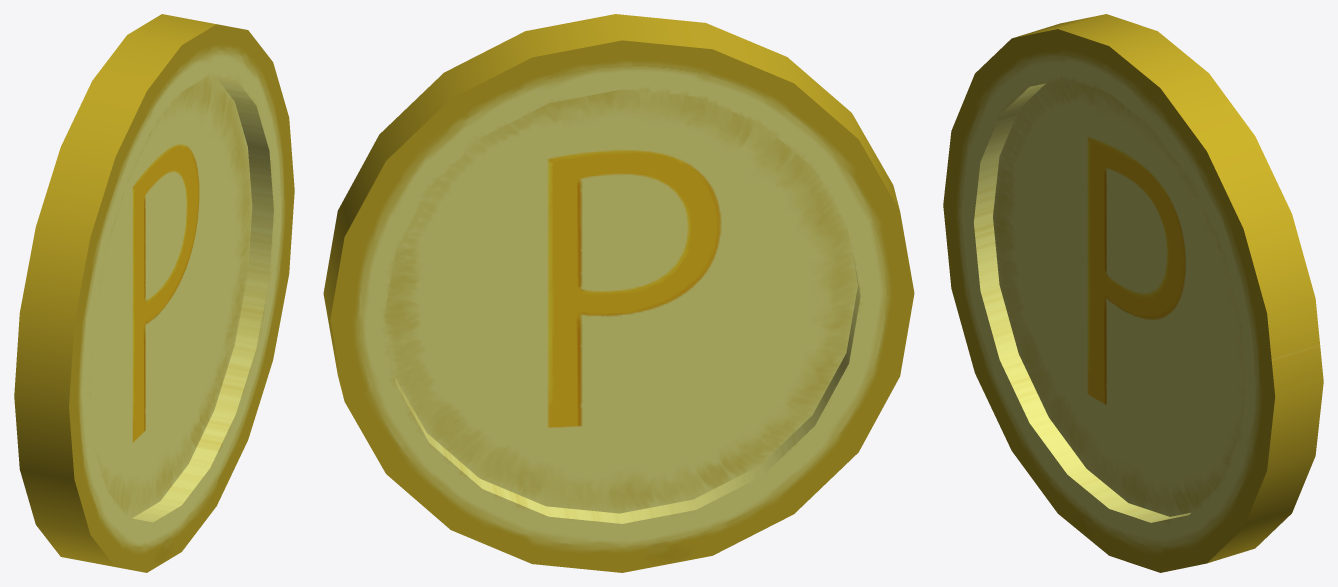
Rendered from Coin.fbx.
3 renders of one model, left to right at view 1: azimuth 30°, elevation 25°; view 2: azimuth 150°, elevation 25°; view 3: azimuth 270°, elevation 25°, orthographic. The views are drawn at different scales.
Parts seen in each view (by area): view 1: pCylinder1; view 2: pCylinder1; view 3: pCylinder1.
Boxes of the visible parts, x1,y1,x2,y2 form: pCylinder1: [14, 14, 294, 572]; pCylinder1: [323, 14, 914, 572]; pCylinder1: [943, 14, 1323, 572].
Bounding box in the file's own units: 6.75 × 7.75 × 5.25.
1 material, 1 textured.
